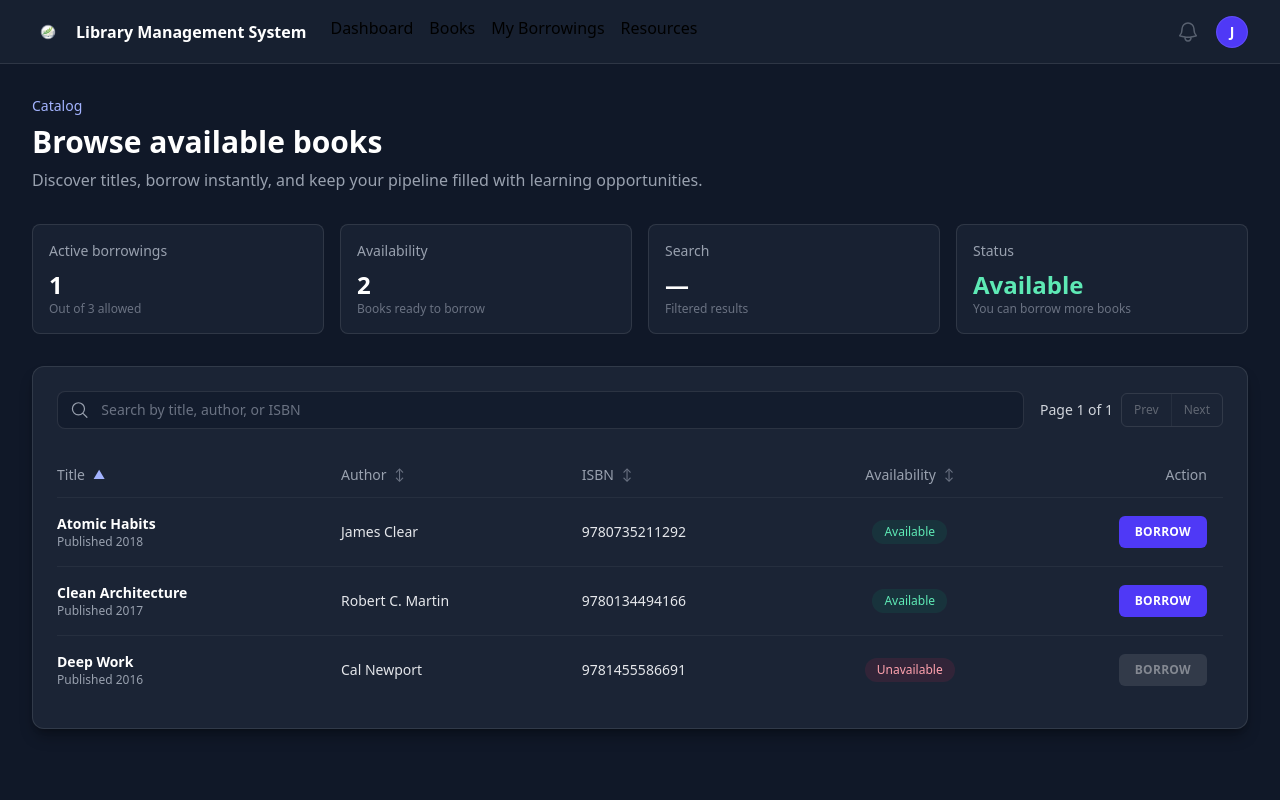
BooksPage › renders books and allows borrowing available titles
This screenshot has width=1280, height=800.
Expected: the text "Atomic Habits" is shown, x1=57 y1=514 x2=156 y2=533
Step 1. Click the button "Borrow" in the row of "Atomic Habits" → (1163, 532), box x1=1119 y1=516 x2=1207 y2=548
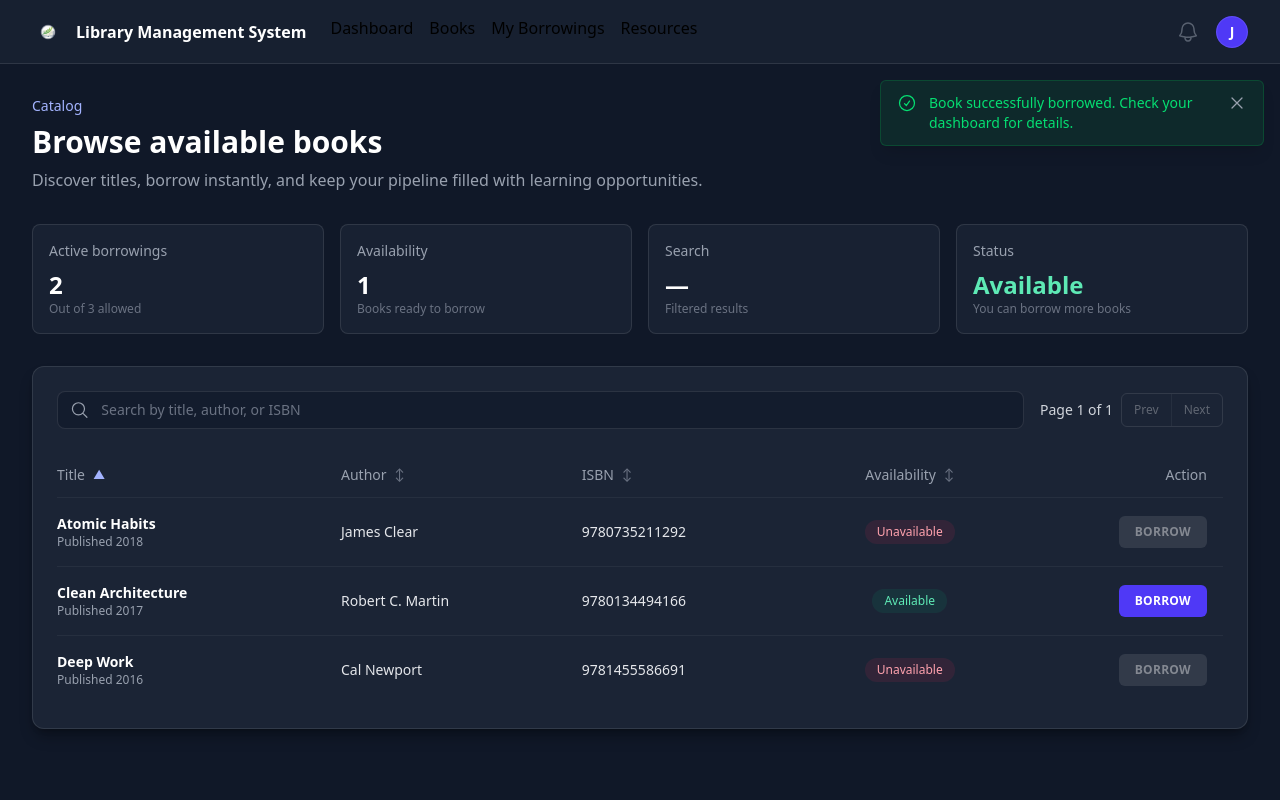
Expected: the text "Atomic Habits" is shown, x1=57 y1=514 x2=156 y2=533
Now the text "Book successfully borrowed. Check your dashboard for details." is shown, box x1=929 y1=93 x2=1215 y2=133
Now the button "Borrow" in the row of "Atomic Habits" is disabled, box x1=1119 y1=516 x2=1207 y2=548
